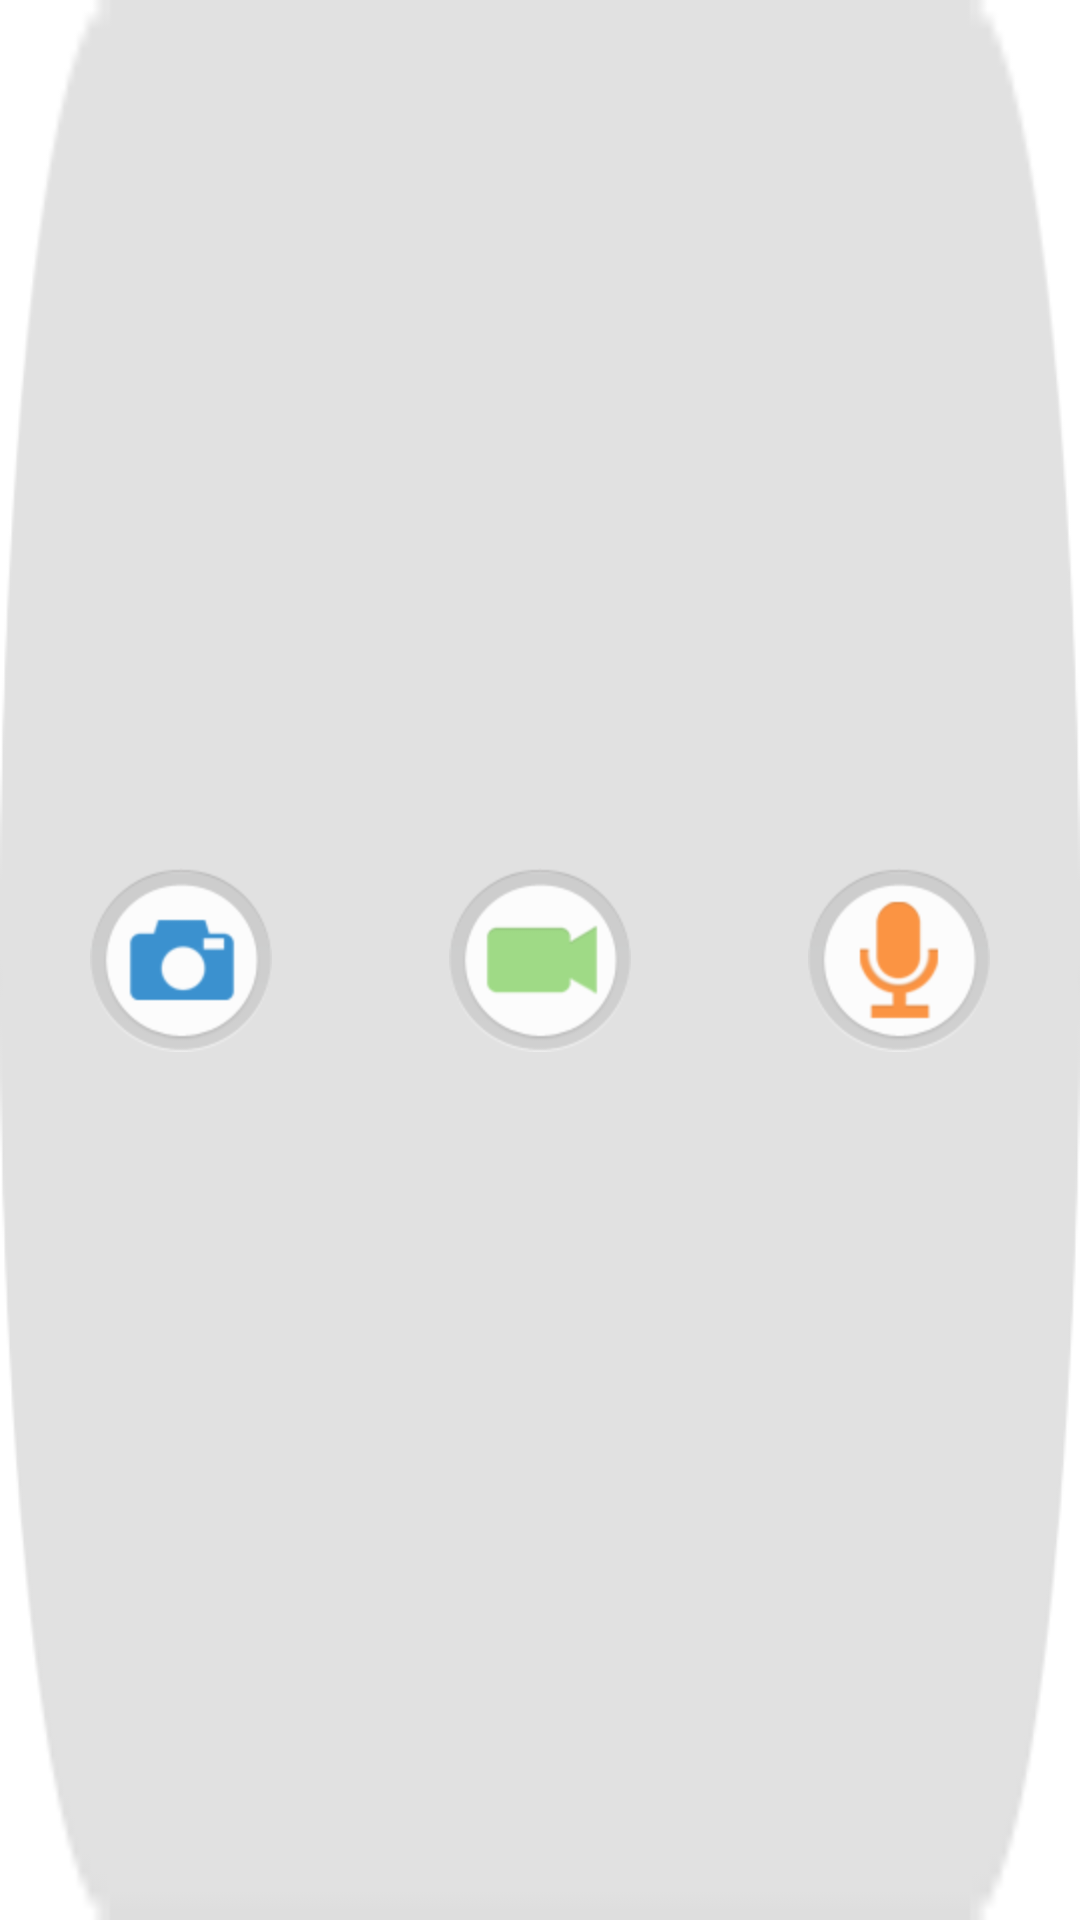

Icon click points for this 1080px x 1920px phone screenshot, format point (x, y):
take photo: point (182, 954)
take record: point (900, 954)
take video: point (540, 954)
